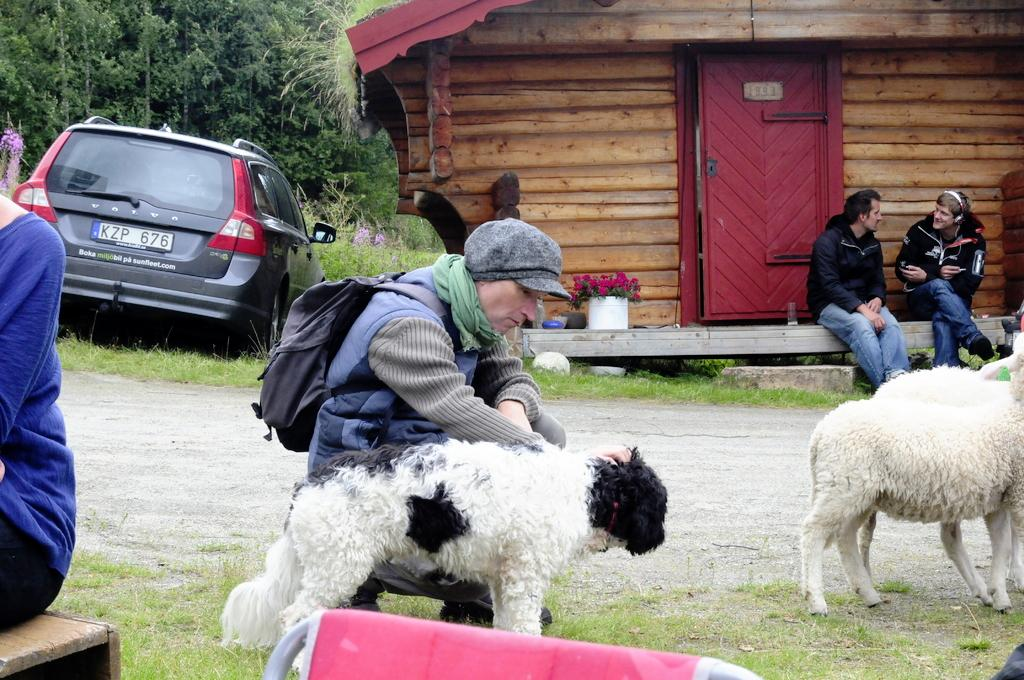Sheep: (837, 326, 1024, 607), (800, 398, 1024, 617)
